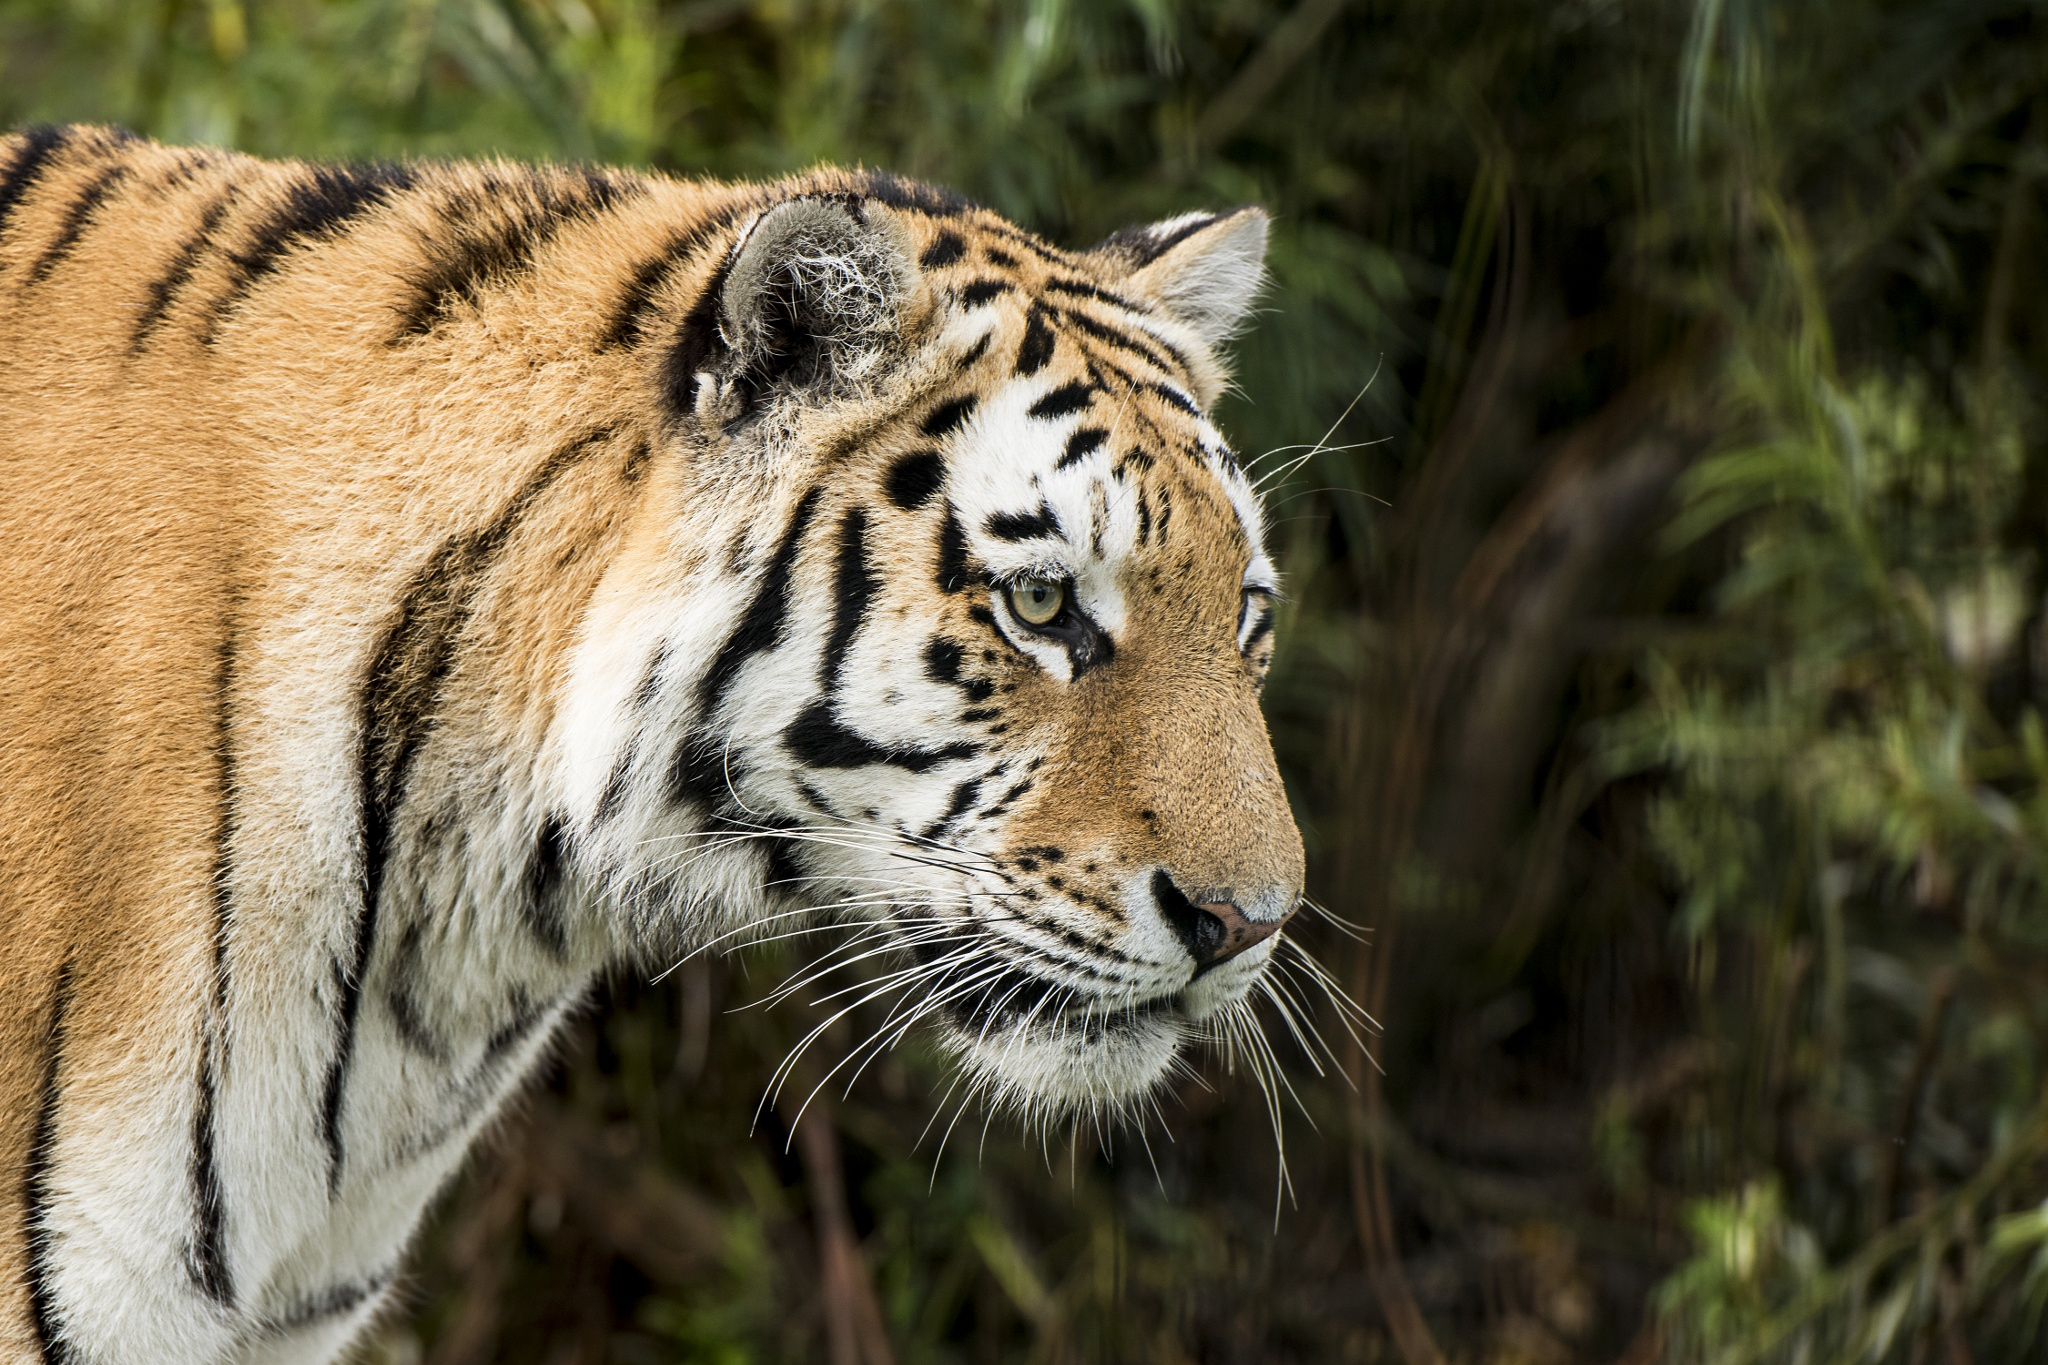tiger: (2, 161, 1341, 1194)
